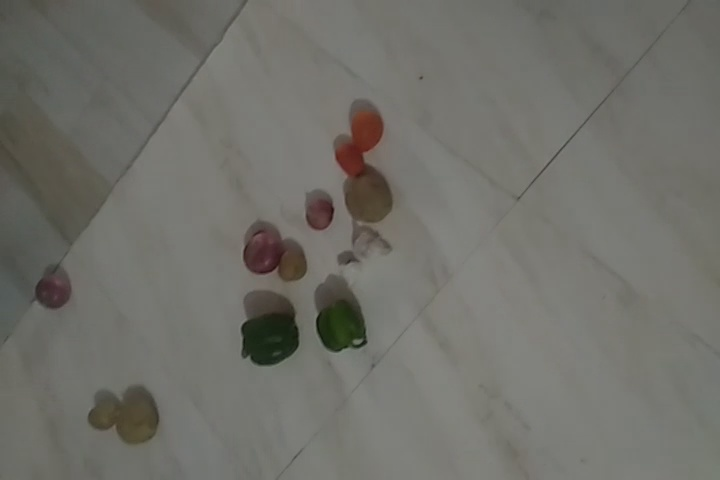capsicum: (235, 315, 306, 364), (317, 299, 371, 357)
garlic: (348, 224, 390, 266)
onion: (242, 231, 280, 275), (32, 272, 69, 308), (305, 190, 334, 235)
potato: (342, 170, 390, 216), (116, 394, 159, 445), (278, 247, 305, 284), (85, 398, 116, 428)
tomato: (333, 130, 364, 177), (350, 103, 382, 148)
